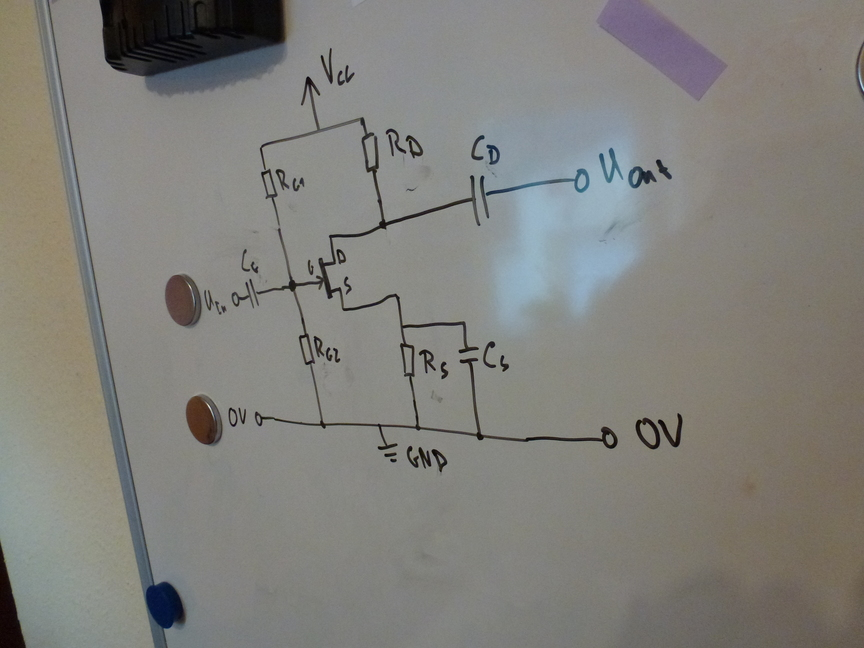capacitor.unpolarized: (466, 173, 497, 227), (243, 278, 262, 309), (457, 345, 481, 366)
gnd: (376, 441, 402, 464)
junction: (377, 217, 391, 232), (286, 278, 300, 293), (474, 430, 486, 443), (317, 419, 329, 431), (357, 115, 368, 126), (412, 422, 423, 433), (325, 232, 336, 241), (314, 125, 323, 136), (393, 291, 402, 301), (375, 421, 385, 430), (459, 319, 469, 328), (398, 322, 407, 331), (257, 144, 267, 152), (339, 305, 347, 313)
resistor: (360, 130, 383, 174), (399, 341, 417, 381), (260, 167, 280, 200), (298, 331, 315, 366)
terminal: (571, 166, 593, 194), (599, 425, 619, 451), (253, 409, 265, 427), (230, 290, 242, 307)
text: (599, 147, 674, 189), (635, 413, 684, 450), (319, 47, 356, 86), (384, 128, 425, 160), (405, 445, 448, 473), (469, 134, 501, 166), (418, 349, 450, 380), (313, 334, 342, 365), (482, 341, 510, 373), (275, 168, 306, 192), (204, 289, 229, 317), (240, 248, 260, 275), (227, 406, 248, 428), (343, 275, 354, 295), (336, 248, 348, 265), (306, 258, 316, 276)
transistor: (316, 257, 344, 300)
vss: (300, 75, 323, 107)
